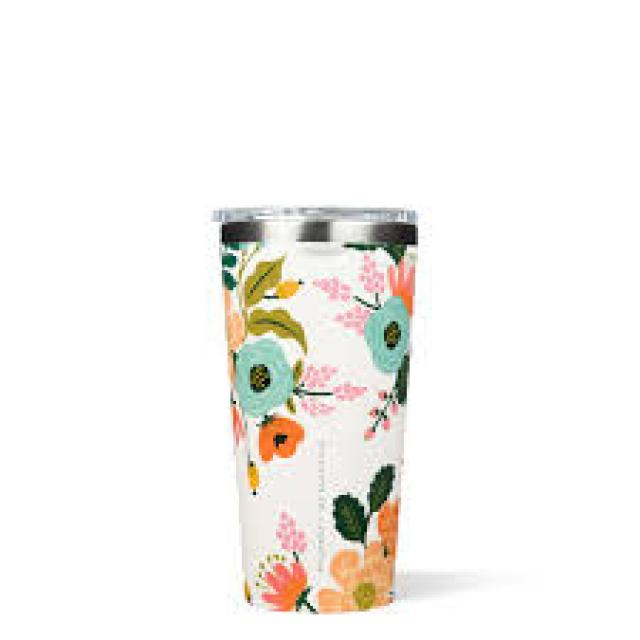bottle: (213, 207, 416, 613)
